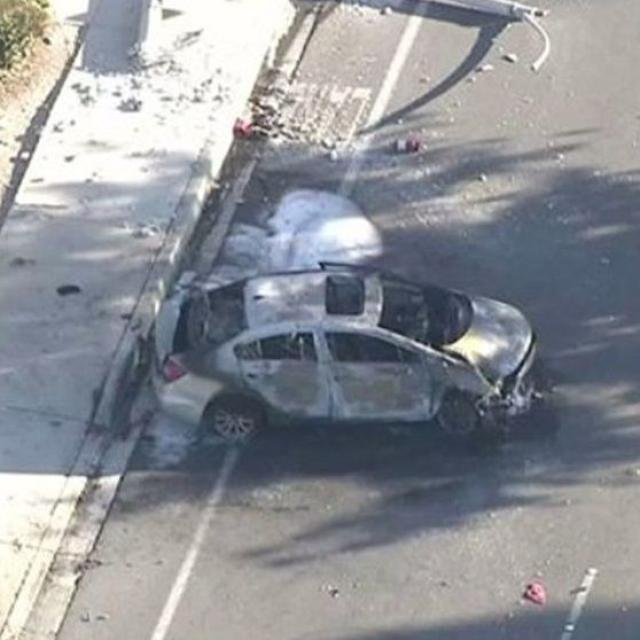traffic_incident: (126, 171, 571, 482)
